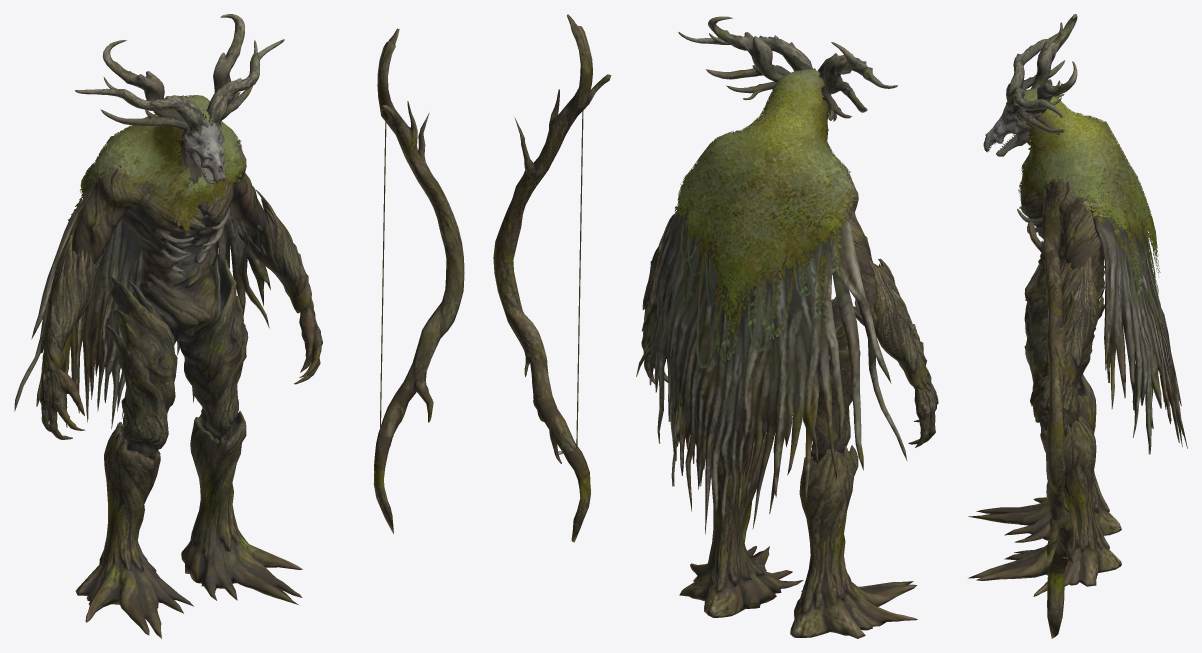
Rendered from pet-1101.glb.
The picture shows the model from 3 angles, left to right: view 1: azimuth 30°, elevation 25°; view 2: azimuth 150°, elevation 25°; view 3: azimuth 270°, elevation 25°; orthographic projection. The views are drawn at different scales.
Visible parts, largest first — view 1: VEH_ForestArc_01; view 2: VEH_ForestArc_01; view 3: VEH_ForestArc_01.
Boxes of the visible parts, <box> form: VEH_ForestArc_01: <box>14,14,464,638</box>; VEH_ForestArc_01: <box>493,14,938,638</box>; VEH_ForestArc_01: <box>968,14,1187,638</box>.
Size of the model in its own units: 2.54 by 3.19 by 1.26.
Materials: 1 (1 with a texture image).
